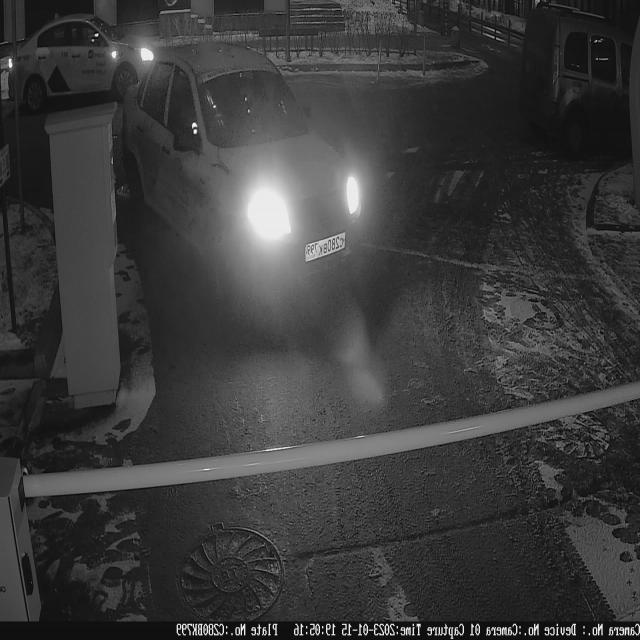car-plate-numbers: (303, 227, 348, 266)
